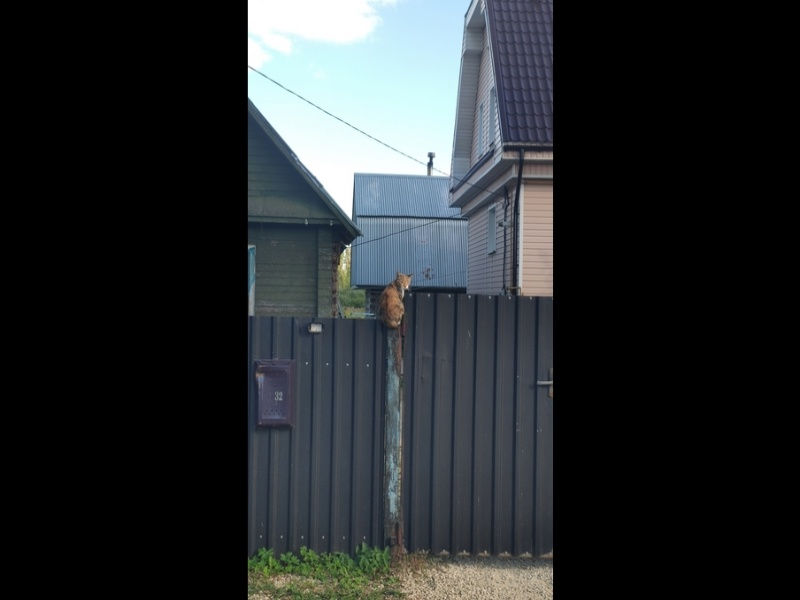cat: (378, 269, 412, 331)
